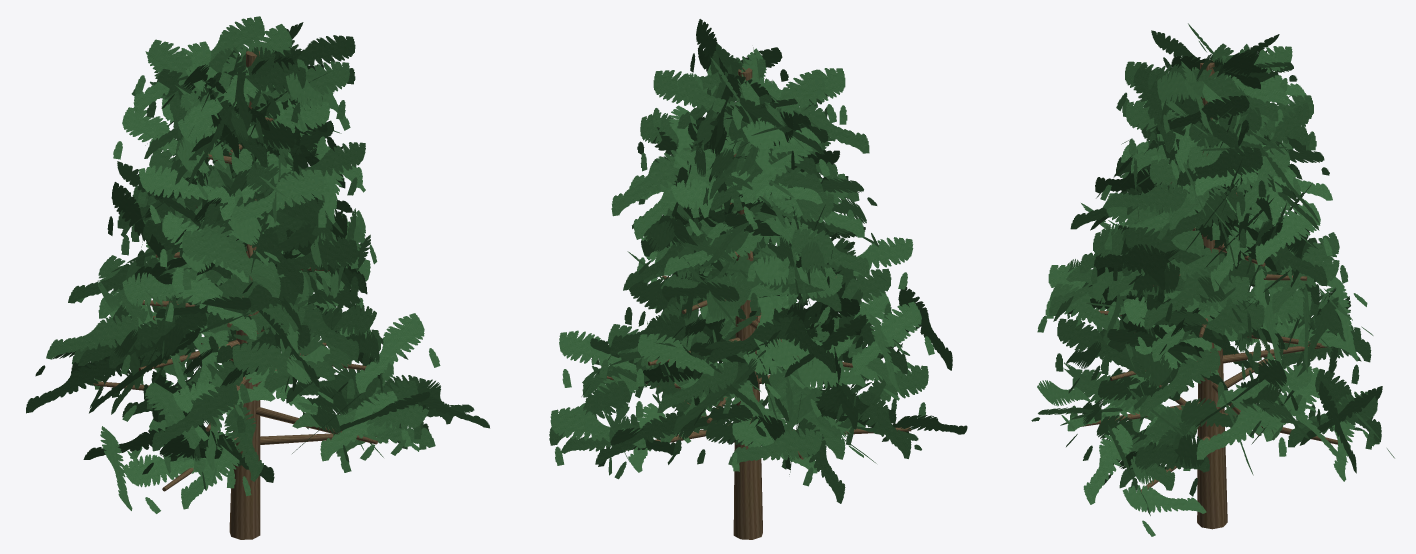
The picture shows the model from 3 angles, left to right: view 1: azimuth 30°, elevation 25°; view 2: azimuth 150°, elevation 25°; view 3: azimuth 270°, elevation 25°; orthographic projection. The views are drawn at different scales.
Parts seen in each view (by area): view 1: pine-needle, pine-bark; view 2: pine-needle, pine-bark; view 3: pine-needle, pine-bark.
Boxes of the visible parts, bbox=[...] form: pine-needle: bbox=[26, 16, 489, 513]; pine-bark: bbox=[93, 51, 377, 539]; pine-needle: bbox=[549, 19, 967, 503]; pine-bark: bbox=[607, 67, 911, 539]; pine-needle: bbox=[1031, 23, 1394, 536]; pine-bark: bbox=[1081, 60, 1337, 529].
Bounding box in the file's own units: 9.07 × 10.55 × 7.45.
Materials: 2 (2 with a texture image).
